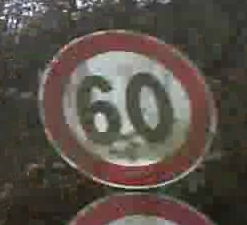limite 60: (31, 24, 225, 193)
